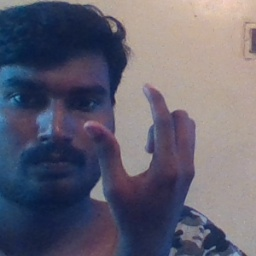U: (83, 82, 206, 217)
